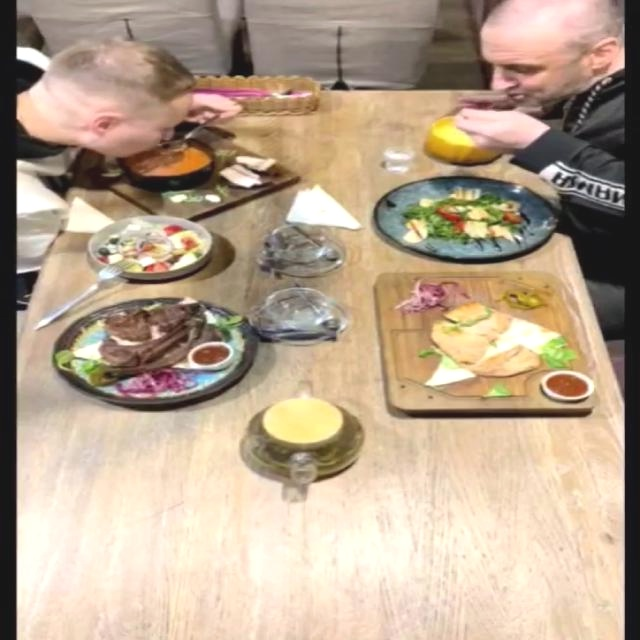meat: (372, 276, 596, 414), (50, 295, 261, 405)
salad: (375, 176, 562, 260), (85, 213, 214, 280)
soup: (72, 130, 304, 222), (426, 115, 503, 163)
tea: (233, 370, 378, 510)
